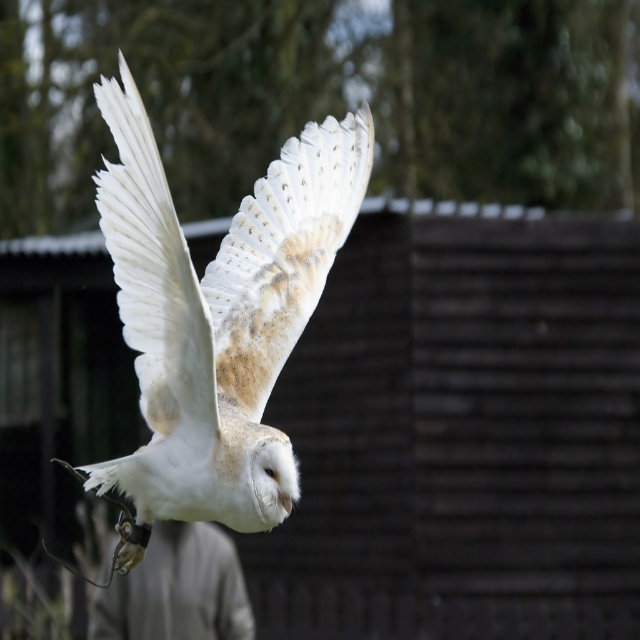Owl: (67, 43, 376, 584)
